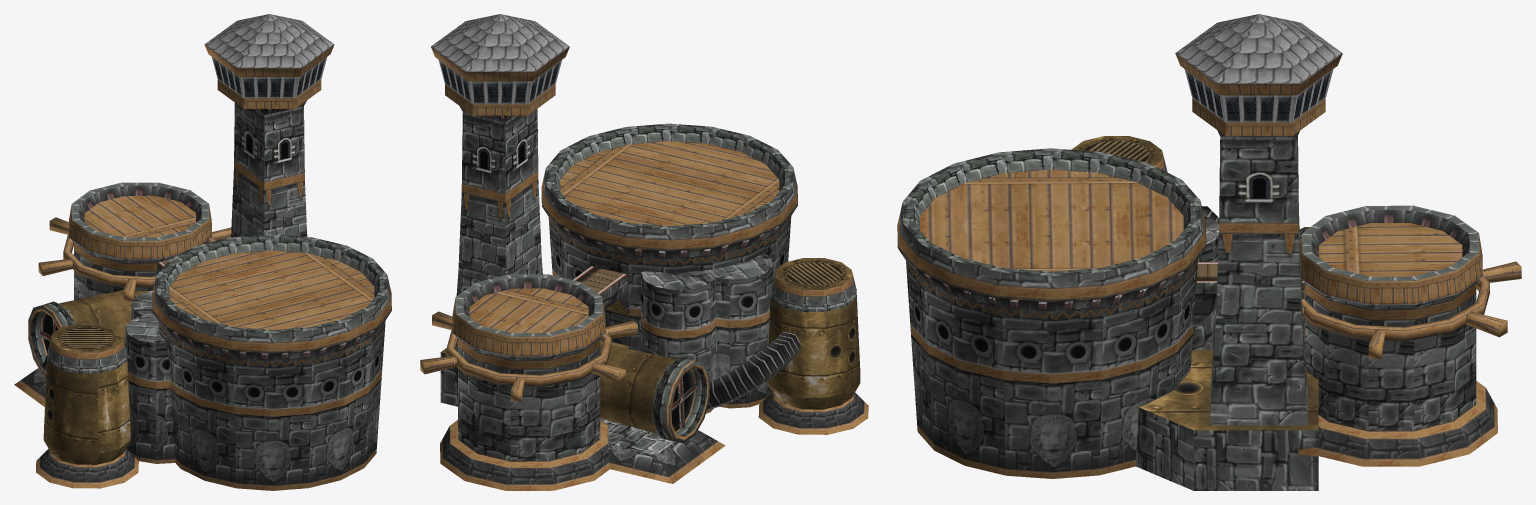
Rendered from h_aviary.FBX.
The picture shows the model from 3 angles, left to right: view 1: azimuth 30°, elevation 25°; view 2: azimuth 150°, elevation 25°; view 3: azimuth 270°, elevation 25°; orthographic projection. The views are drawn at different scales.
Visible parts, largest first — view 1: h_aviary; view 2: h_aviary; view 3: h_aviary.
Boxes of the visible parts, x1,y1,x2,y2 form: h_aviary: [14, 14, 391, 490]; h_aviary: [420, 14, 868, 490]; h_aviary: [897, 14, 1521, 490].
Bounding box in the file's own units: 197 × 202 × 250.
